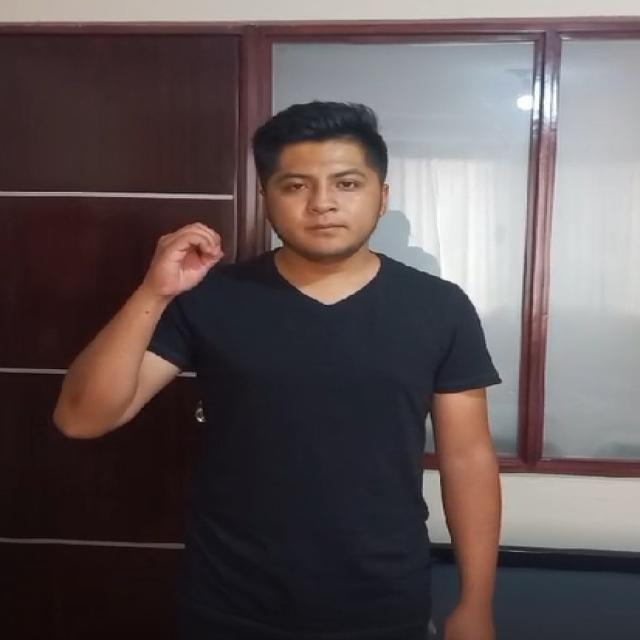O: (124, 205, 232, 326)
